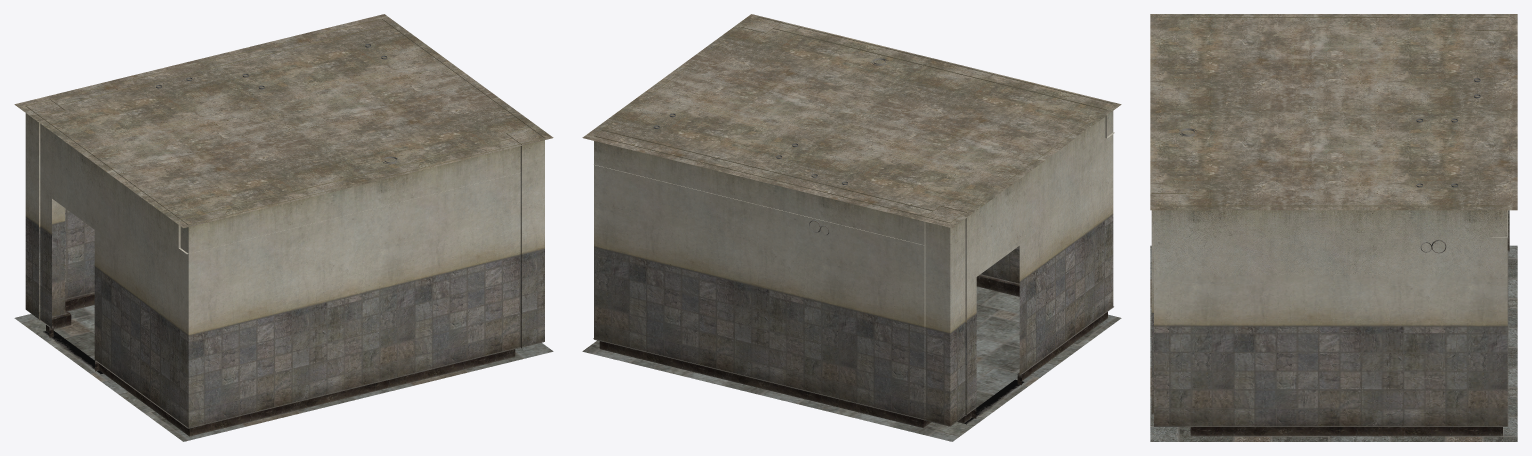
The model's file is st4_311_0_terrain_00ms.fbx.
The picture shows the model from 3 angles, left to right: view 1: azimuth 30°, elevation 25°; view 2: azimuth 150°, elevation 25°; view 3: azimuth 270°, elevation 25°; orthographic projection. The views are drawn at different scales.
Visible parts, largest first — view 1: LOD_1_Group_0_Sub_2__st2_police1fRightWall12, LOD_1_Group_0_Sub_3__st2_police1fRightCeiling12, LOD_1_Group_0_Sub_1__st2_police1fRightFloor11; view 2: LOD_1_Group_0_Sub_2__st2_police1fRightWall12, LOD_1_Group_0_Sub_3__st2_police1fRightCeiling12, LOD_1_Group_0_Sub_1__st2_police1fRightFloor11; view 3: LOD_1_Group_0_Sub_2__st2_police1fRightWall12, LOD_1_Group_0_Sub_3__st2_police1fRightCeiling12, LOD_1_Group_0_Sub_1__st2_police1fRightFloor11.
Boxes of the visible parts, x1,y1,x2,y2 form: LOD_1_Group_0_Sub_2__st2_police1fRightWall12: (25,18,544,436); LOD_1_Group_0_Sub_3__st2_police1fRightCeiling12: (14,14,553,228); LOD_1_Group_0_Sub_1__st2_police1fRightFloor11: (14,305,553,441); LOD_1_Group_0_Sub_2__st2_police1fRightWall12: (593,16,1114,427); LOD_1_Group_0_Sub_3__st2_police1fRightCeiling12: (582,14,1121,228); LOD_1_Group_0_Sub_1__st2_police1fRightFloor11: (582,286,1121,441); LOD_1_Group_0_Sub_2__st2_police1fRightWall12: (1151,17,1509,436); LOD_1_Group_0_Sub_3__st2_police1fRightCeiling12: (1150,14,1517,210); LOD_1_Group_0_Sub_1__st2_police1fRightFloor11: (1150,245,1517,441).
Size of the model in its own units: 6.12 by 3.45 by 4.85.
